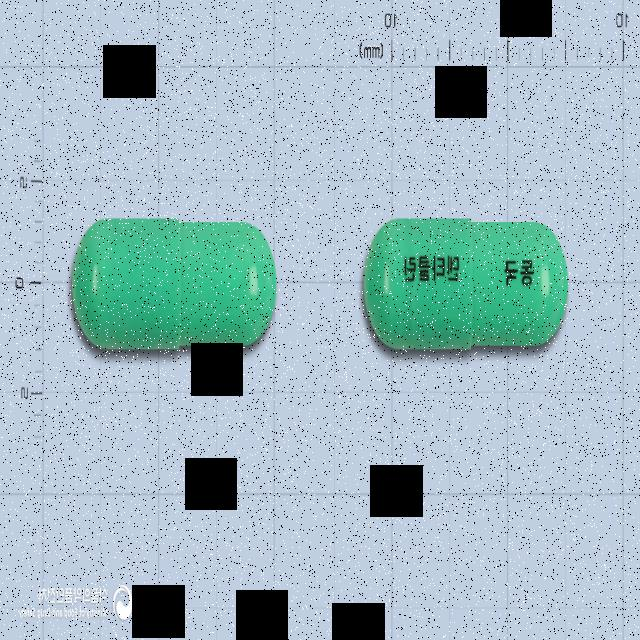Dentacline Cap: (70, 215, 278, 351), (362, 215, 569, 351)
